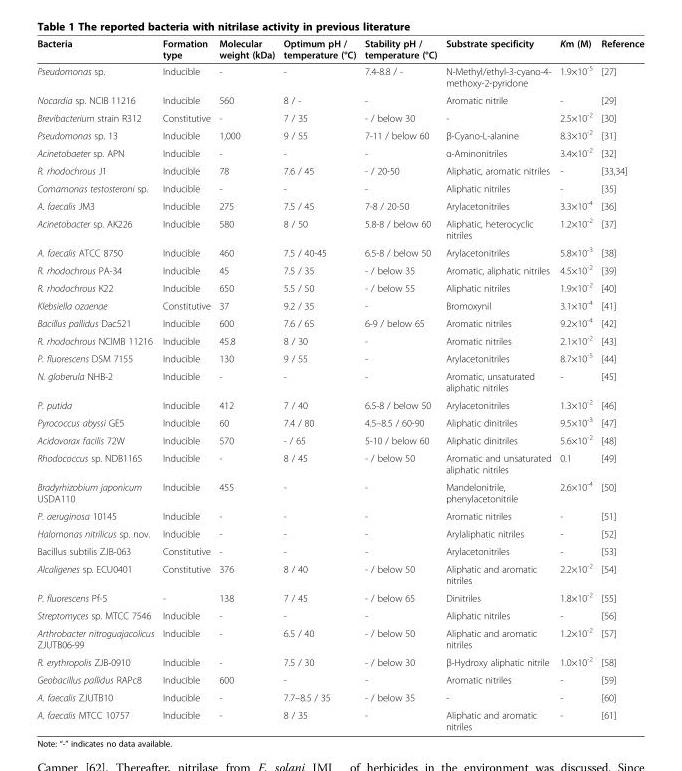table: (36, 37, 643, 731)
table column: (36, 37, 157, 731), (440, 37, 554, 731), (278, 37, 359, 731), (359, 37, 440, 731), (214, 37, 278, 731), (157, 37, 214, 731), (596, 37, 643, 731), (554, 37, 596, 731)
table column header: (36, 37, 643, 61)
table row: (36, 61, 643, 91), (36, 213, 643, 242), (36, 448, 643, 477), (36, 477, 643, 506), (36, 559, 643, 588), (36, 623, 643, 652), (36, 367, 643, 395), (36, 705, 643, 731), (36, 37, 643, 61), (36, 348, 643, 367), (36, 125, 643, 143), (36, 143, 643, 161), (36, 161, 643, 179), (36, 242, 643, 260), (36, 260, 643, 278), (36, 295, 643, 313), (36, 313, 643, 331), (36, 412, 643, 430), (36, 430, 643, 448), (36, 506, 643, 524), (36, 524, 643, 542), (36, 588, 643, 606), (36, 652, 643, 670), (36, 670, 643, 688), (36, 91, 643, 108), (36, 108, 643, 125), (36, 179, 643, 196), (36, 196, 643, 213), (36, 278, 643, 295), (36, 331, 643, 348), (36, 395, 643, 412), (36, 542, 643, 559), (36, 606, 643, 623), (36, 688, 643, 705)
